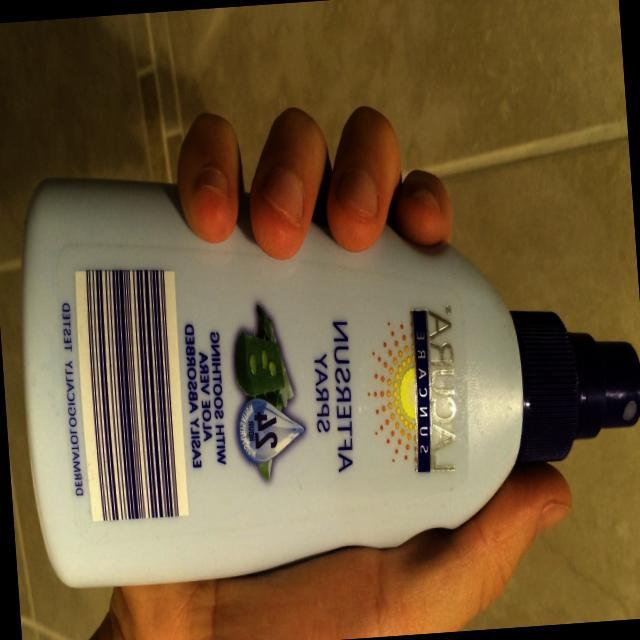HDPE Plastic: (18, 172, 640, 594)
